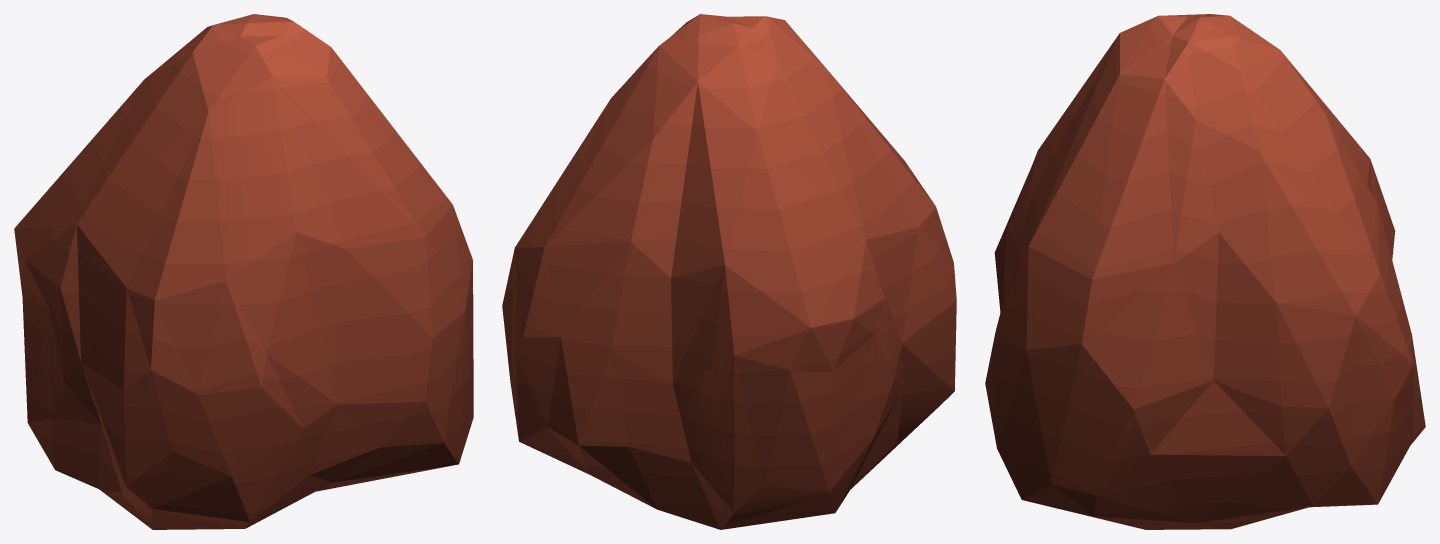
Rendered from Prefab_Foliage_Tree_RedMaple_Leaves.glb.
3 renders of one model, left to right at view 1: azimuth 30°, elevation 25°; view 2: azimuth 150°, elevation 25°; view 3: azimuth 270°, elevation 25°, orthographic. The views are drawn at different scales.
Parts seen in each view (by area): view 1: MapleTree_A_Trunk.002; view 2: MapleTree_A_Trunk.002; view 3: MapleTree_A_Trunk.002.
Part boxes in pixels (x1,y1,x2,y2): MapleTree_A_Trunk.002: [14, 14, 473, 529]; MapleTree_A_Trunk.002: [502, 14, 956, 529]; MapleTree_A_Trunk.002: [985, 14, 1425, 529].
Size of the model in its own units: 7.05 by 8.77 by 7.12.
Materials: 1 (1 with a texture image).
